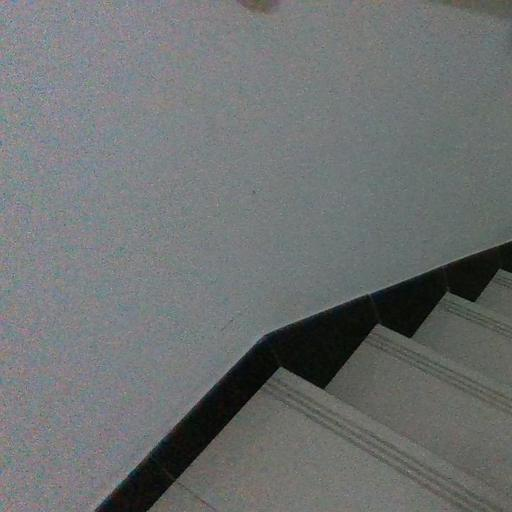Stairs: (96, 242, 512, 512)
